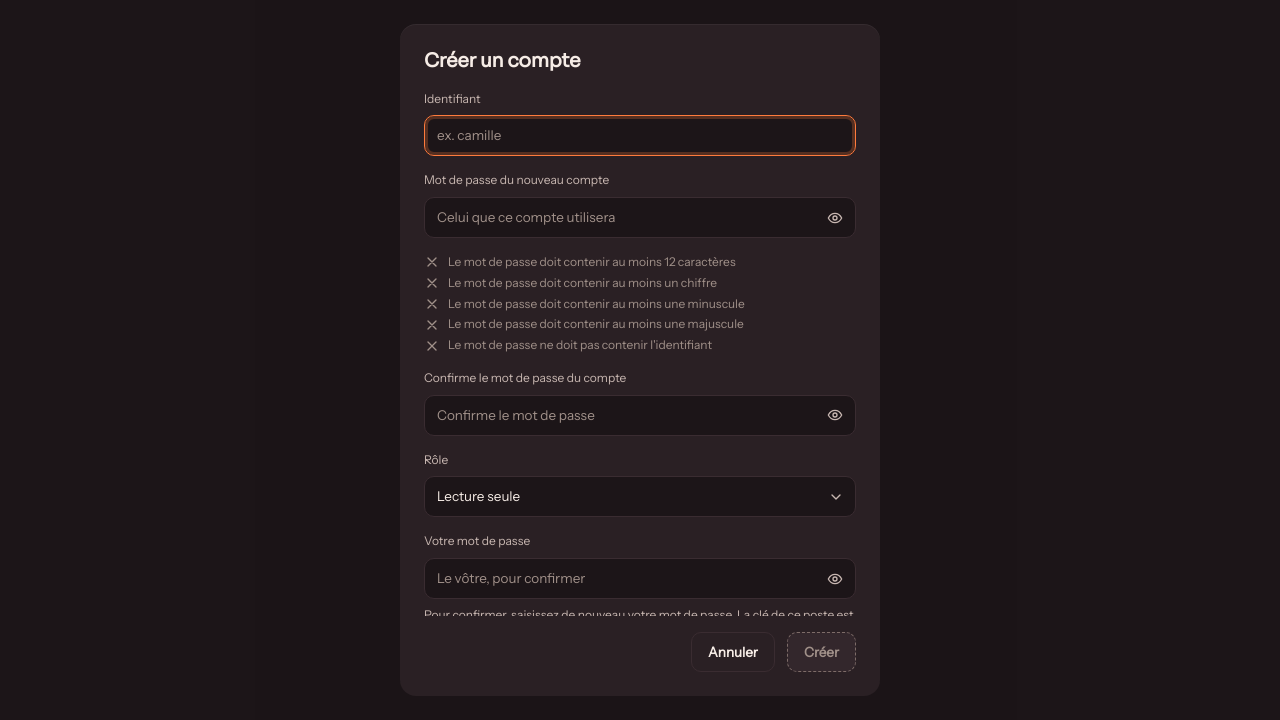
CreateAccountDialog › says when the confirmation differs and only enables « Créer » when everything is valid
Step 1. Type "sophie" into the field labelled "Identifiant" → (640, 136), box x1=425 y1=116 x2=855 y2=155
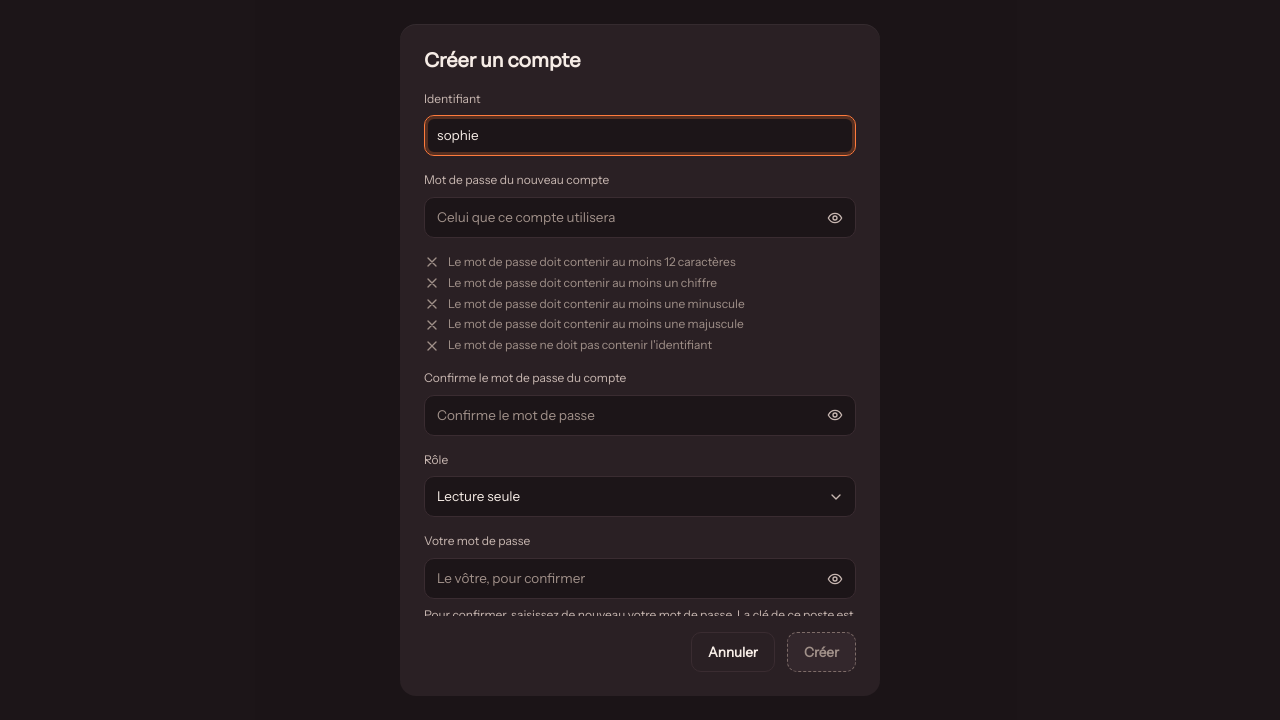
Step 2. Type "Sunny-Walk-Home-42" into the password field labelled "Mot de passe du nouveau compte" → (620, 218), box x1=425 y1=198 x2=815 y2=237
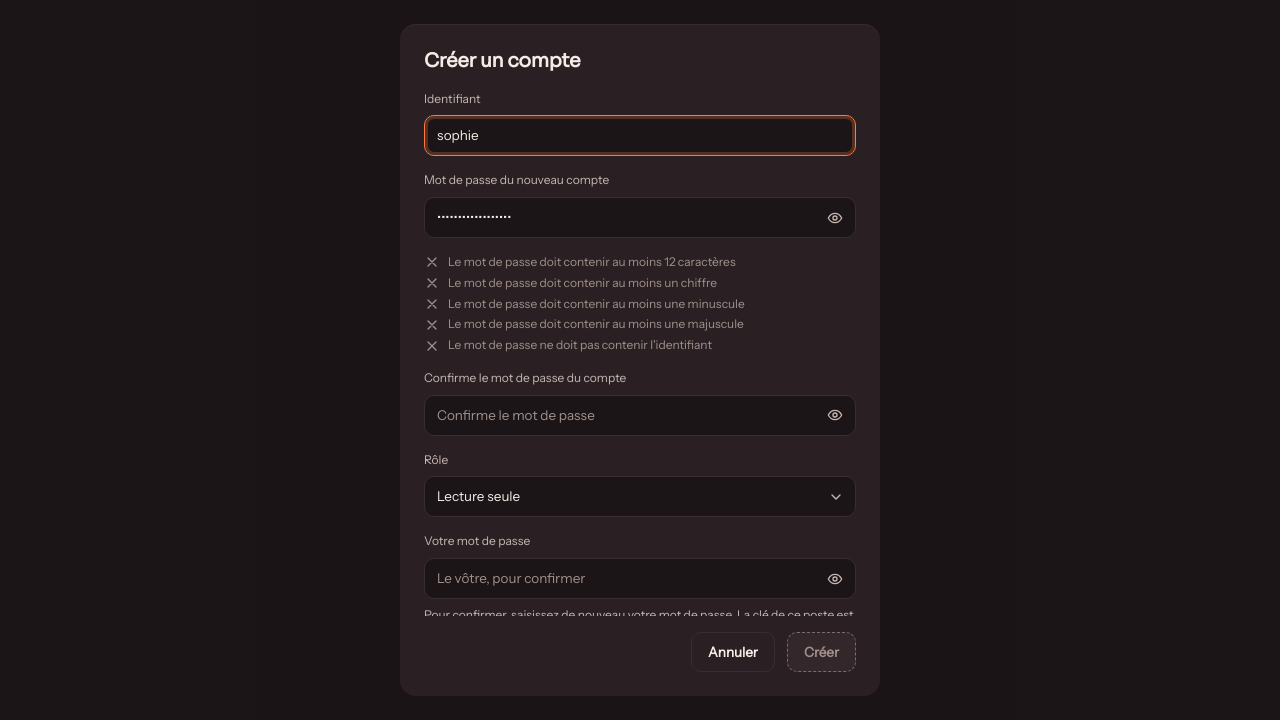
Step 3. Type "autre" into the password field labelled "Confirme le mot de passe du compte" → (620, 415), box x1=425 y1=396 x2=815 y2=435
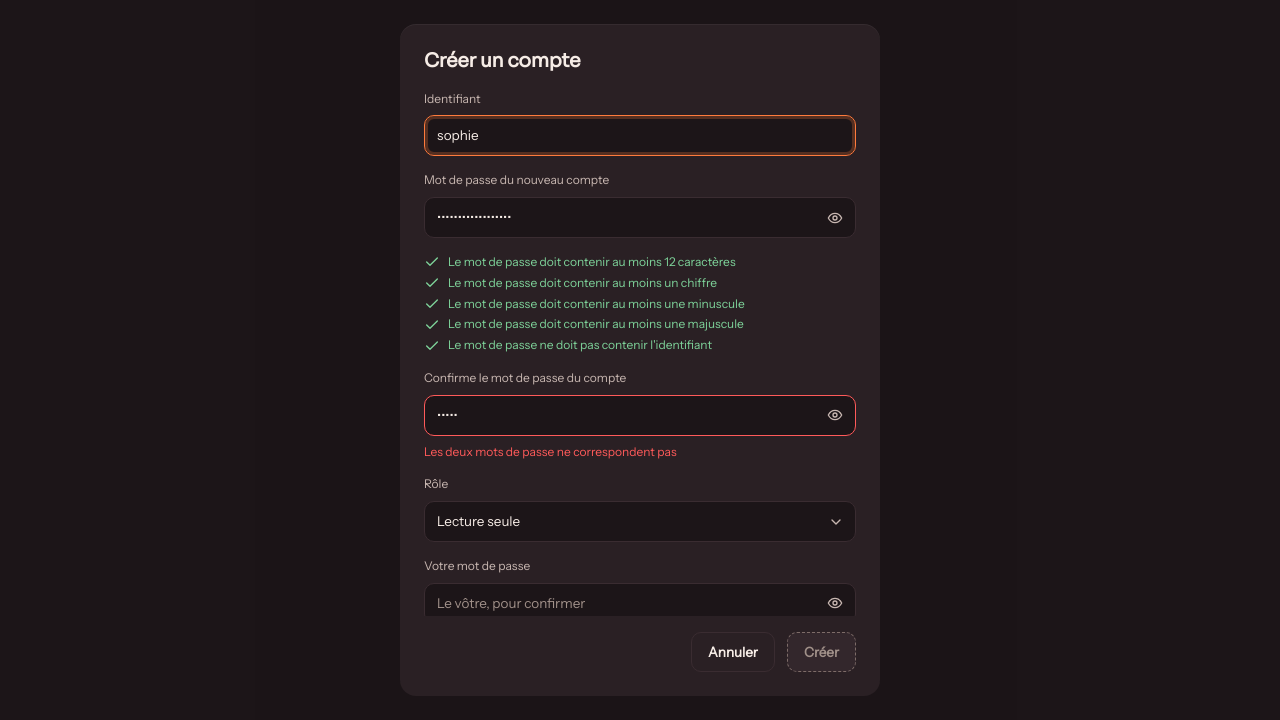
Now the text "Les deux mots de passe ne correspondent pas" is shown, box x1=424 y1=444 x2=677 y2=459
Step 4. Type "Sunny-Walk-Home-42" into the password field labelled "Confirme le mot de passe du compte" → (620, 415), box x1=425 y1=396 x2=815 y2=435
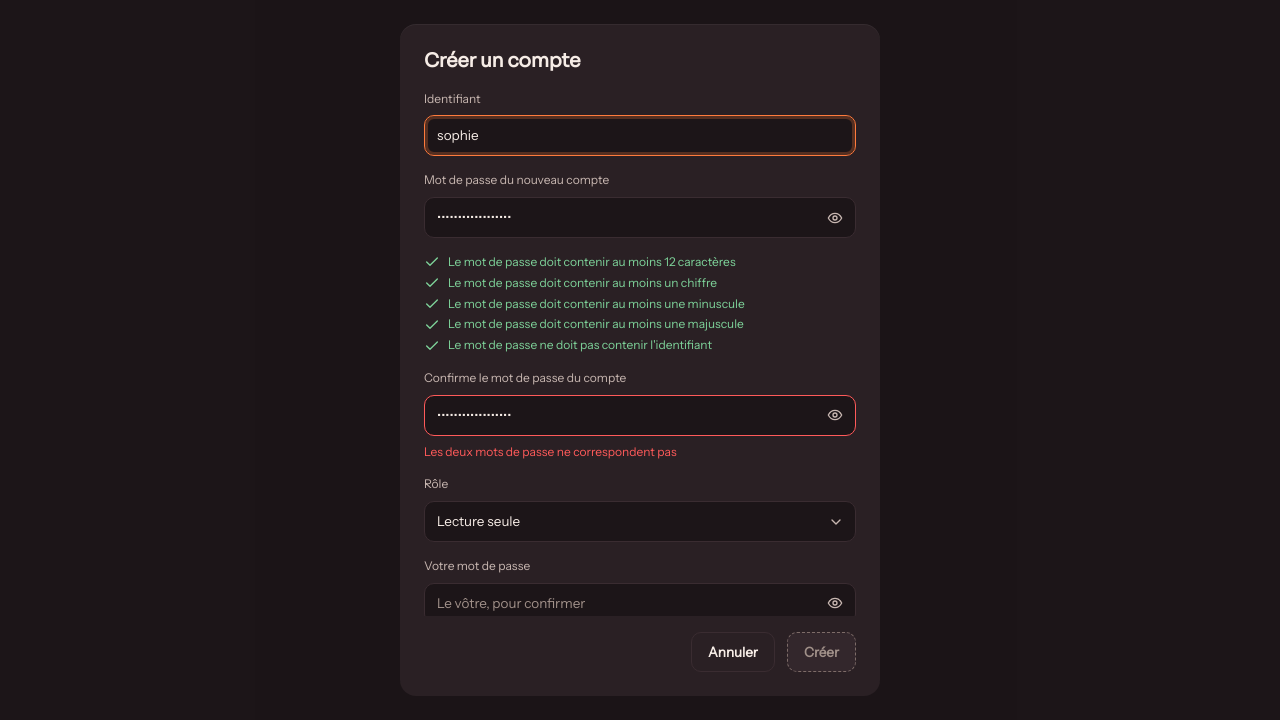
Step 5. Type "Correct-Horse-9" into the password field labelled "Votre mot de passe" → (620, 603), box x1=425 y1=584 x2=815 y2=623
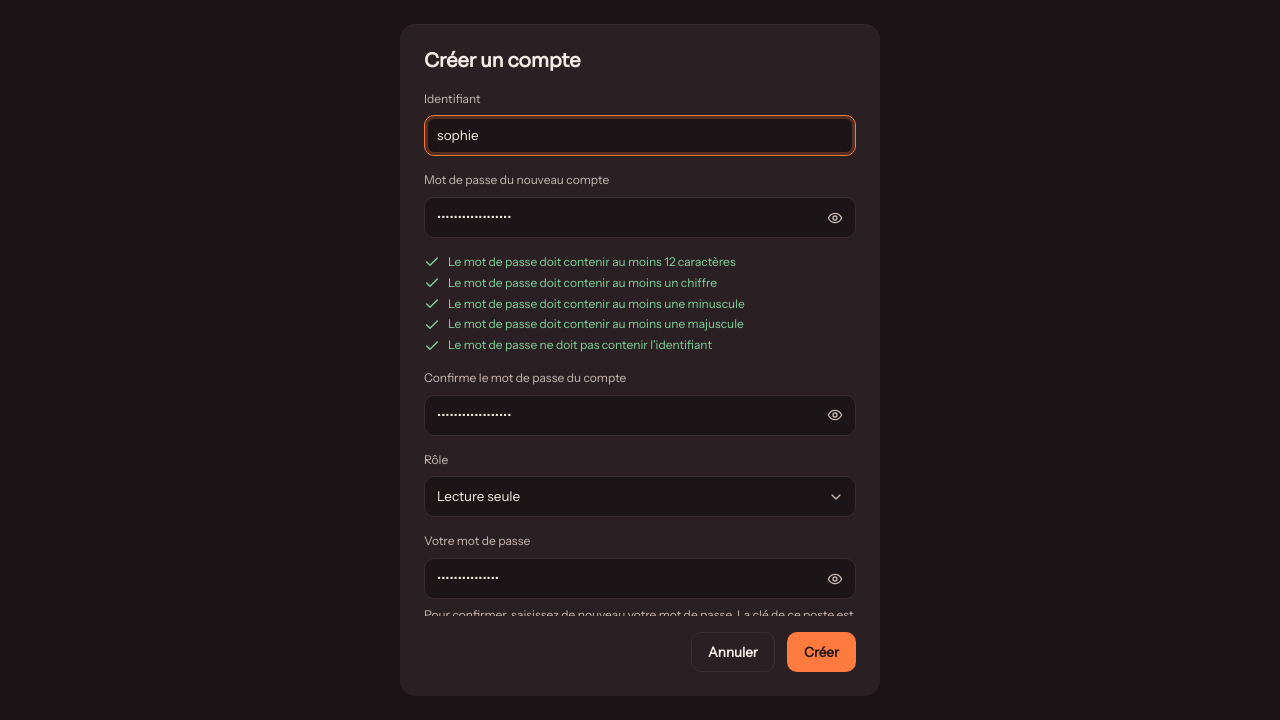
Now the text "Les deux mots de passe ne correspondent pas" is gone
